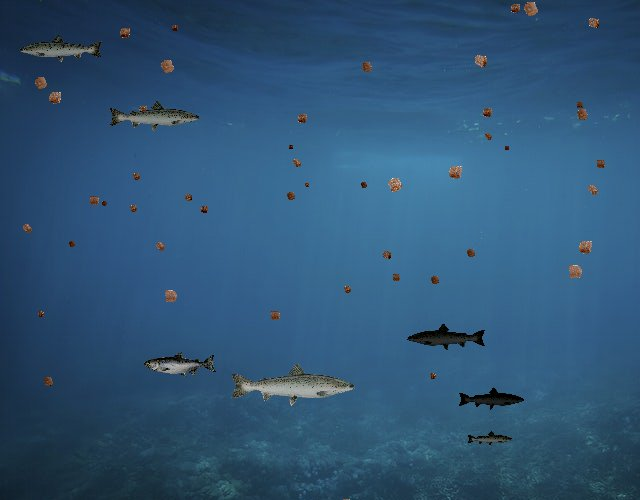Fish: (228, 361, 357, 407), (108, 99, 202, 133), (18, 33, 104, 64), (407, 322, 488, 351), (145, 351, 218, 377), (458, 386, 526, 410), (466, 430, 513, 447)
Pellet: (441, 158, 470, 187), (571, 234, 599, 262), (467, 47, 494, 74), (570, 102, 594, 126), (292, 108, 313, 129), (461, 244, 480, 263), (339, 281, 356, 298), (34, 307, 48, 321)
